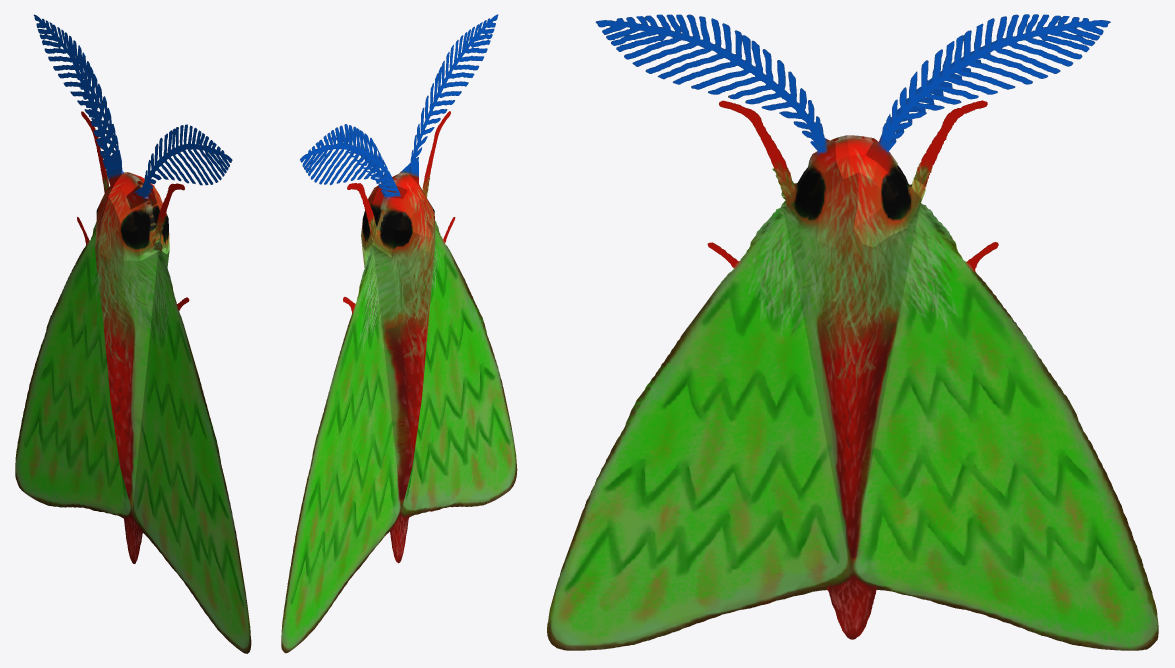
Rendered from coloured_moth_shaped.fbx.
3 views of the same model, side by side, from view 1: azimuth 30°, elevation 25°; view 2: azimuth 150°, elevation 25°; view 3: azimuth 270°, elevation 25° (orthographic). The views are drawn at different scales.
Visible parts, largest first — view 1: d7ceda84-6232-452d-aa17-d7808568258b; view 2: d7ceda84-6232-452d-aa17-d7808568258b; view 3: d7ceda84-6232-452d-aa17-d7808568258b.
Boxes of the visible parts, <box> form: d7ceda84-6232-452d-aa17-d7808568258b: <box>15,14,251,653</box>; d7ceda84-6232-452d-aa17-d7808568258b: <box>281,14,517,653</box>; d7ceda84-6232-452d-aa17-d7808568258b: <box>547,14,1158,650</box>.
Size of the model in its own units: 0.0802 by 0.5493 by 0.4784.
